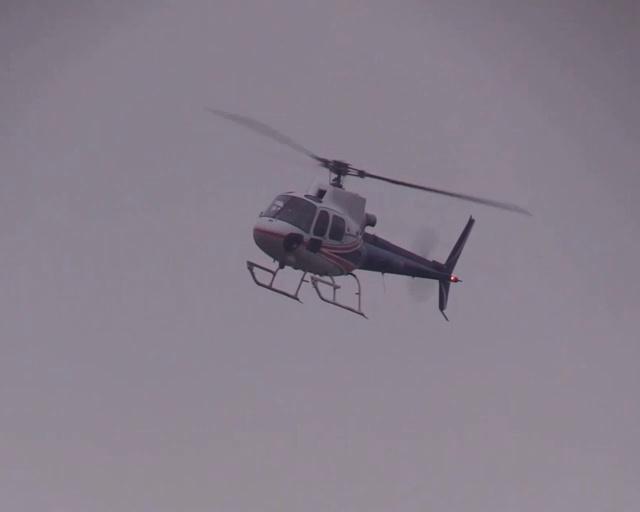HELICOPTER: (206, 108, 532, 319)
